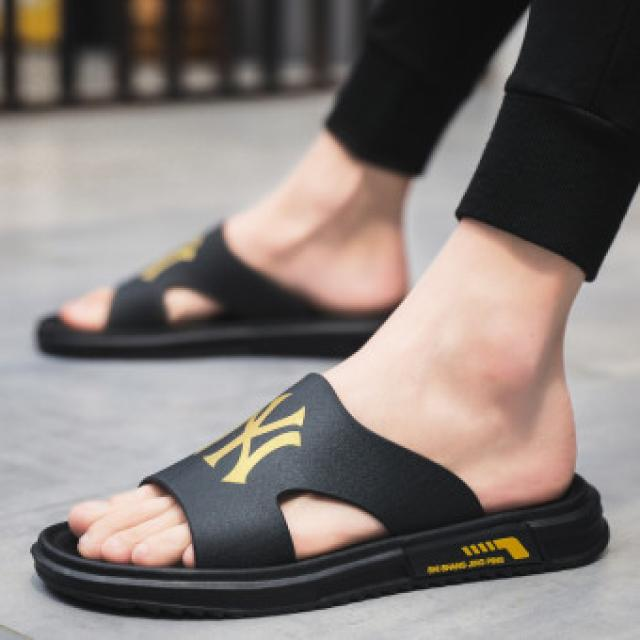no-boots: (30, 395, 631, 640), (41, 190, 424, 362)
